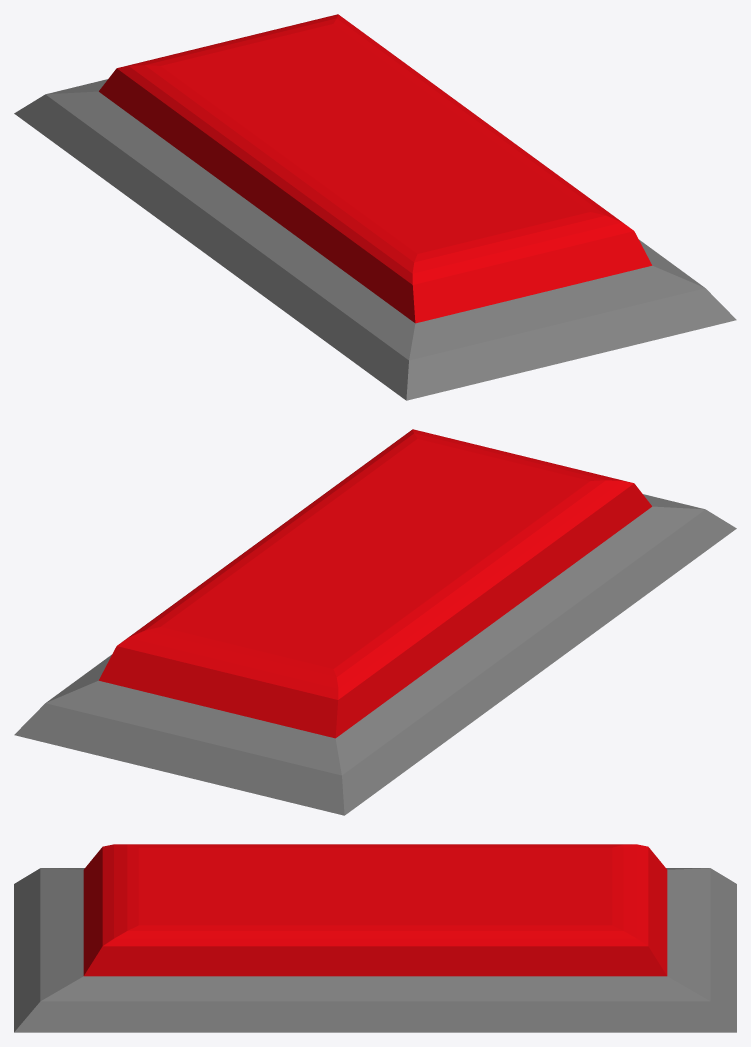
File: jumper.fbx
3 views of the same model, one above another, from view 1: azimuth 30°, elevation 25°; view 2: azimuth 150°, elevation 25°; view 3: azimuth 270°, elevation 25° (orthographic). The views are drawn at different scales.
Parts seen in each view (by area): view 1: Plane; view 2: Plane; view 3: Plane.
Boxes of the visible parts, left/top/right/bottom form: Plane: left=14, top=14, right=736, bottom=400; Plane: left=14, top=429, right=736, bottom=815; Plane: left=14, top=844, right=736, bottom=1032.
Bounding box in the file's own units: 171 × 38.51 × 352.
